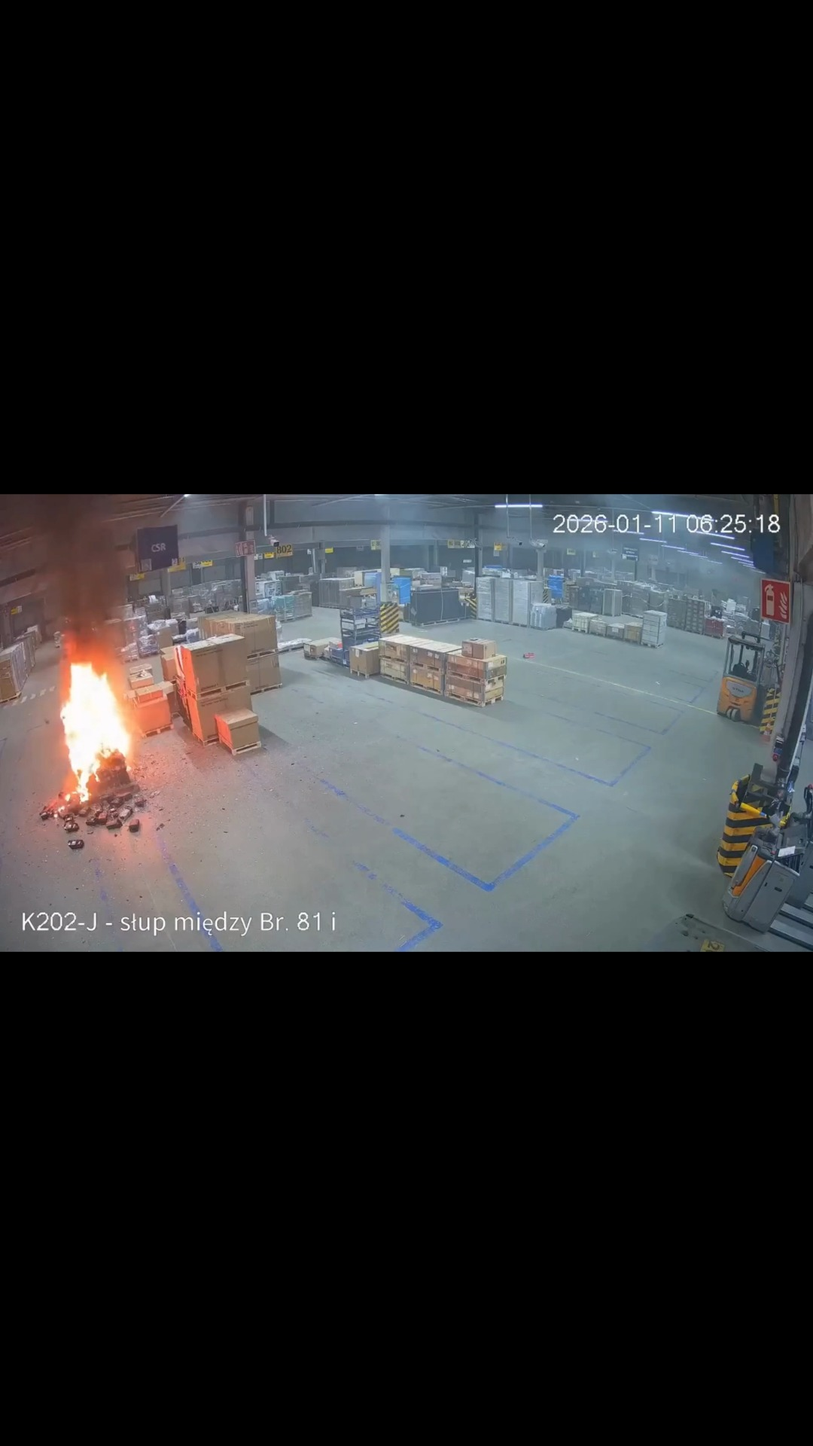fire: (50, 630, 136, 813)
smoke: (27, 497, 153, 665)
